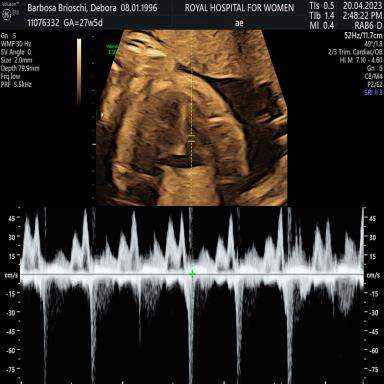Ultrasound-Waves: (27, 208, 360, 384)
